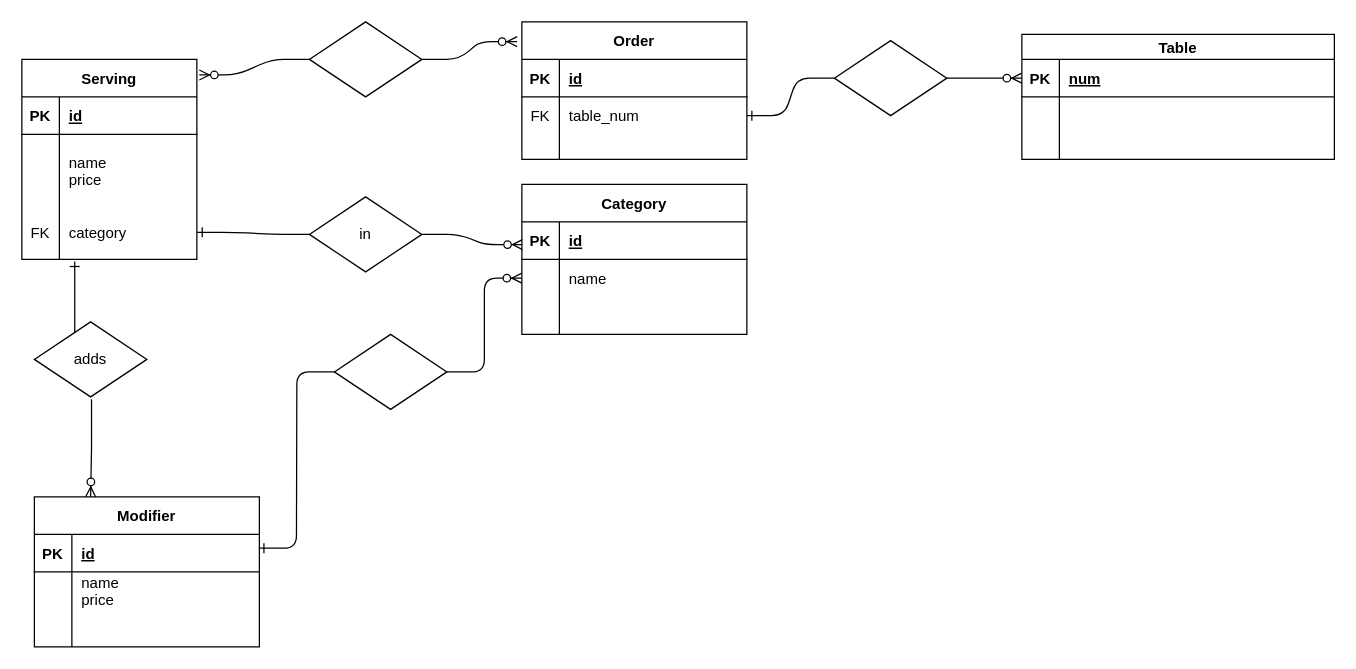
This 1356x669 diagram has some shape labels left out. The shapes that lost their labels are listed below. From the top down, each one's centre as x and y in pixels, then its label:
At (365,59): "contains".
At (890,77): "refers to".
At (390,371): "applies to".
